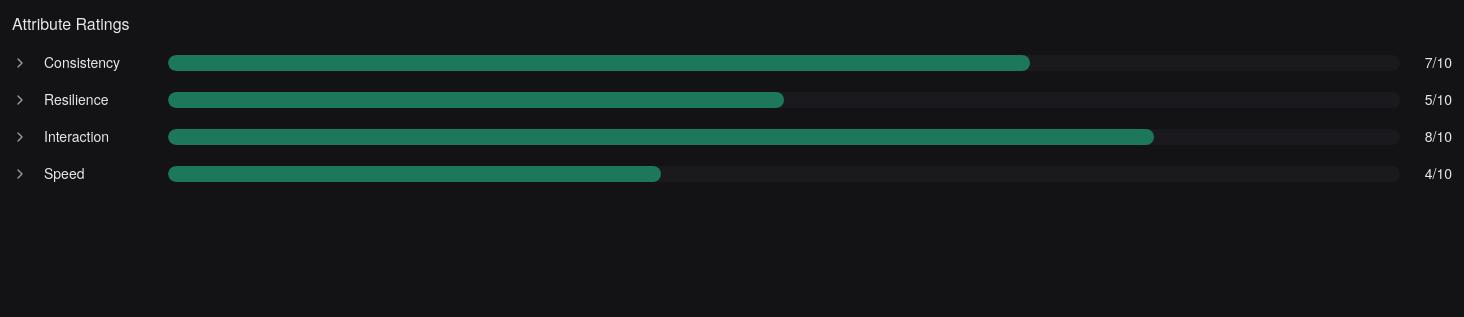
Test: RatingsSection › clicking expand shows contributing cards
// Click the Consistency button to expand
What coordinates should you click on to do the following:
click the button "Consistency 7/10"
I would click on:
 (732, 62)
Its box is [12, 52, 1452, 73].
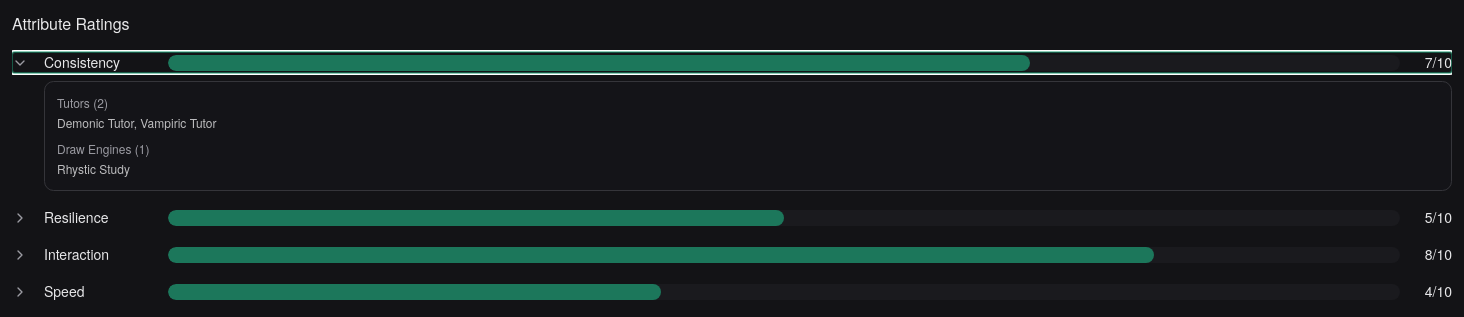
Now the text "Tutors (2)" is shown, box [57, 94, 108, 111]
Now the text "Demonic Tutor, Vampiric Tutor" is shown, box [57, 114, 216, 131]
Now the text "Draw Engines (1)" is shown, box [57, 140, 150, 157]
